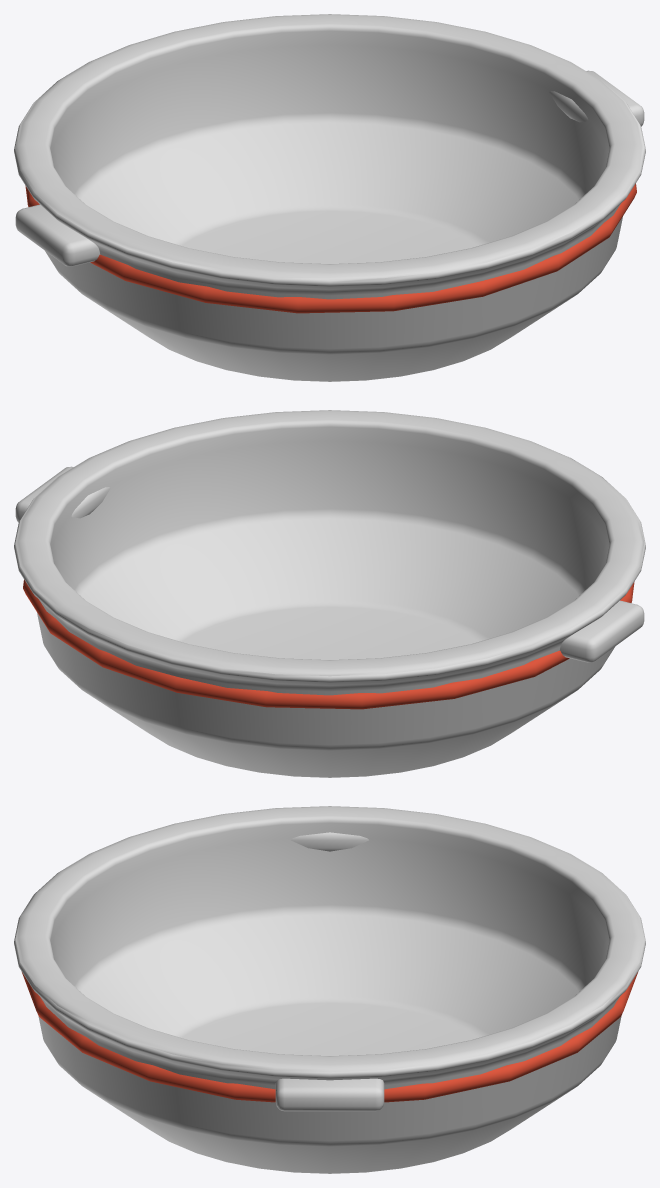
The model's file is stew_bowl.gltf.
The picture shows the model from 3 angles, top to bottom: view 1: azimuth 30°, elevation 25°; view 2: azimuth 150°, elevation 25°; view 3: azimuth 270°, elevation 25°; orthographic projection.
Parts seen in each view (by area): view 1: StewBowlBody; view 2: StewBowlBody; view 3: StewBowlBody.
Boxes of the visible parts, <box> form: StewBowlBody: <box>14,14,645,381</box>; StewBowlBody: <box>14,410,645,777</box>; StewBowlBody: <box>14,806,645,1173</box>.
Size of the model in its own units: 0.619 by 0.16 by 0.5833.
